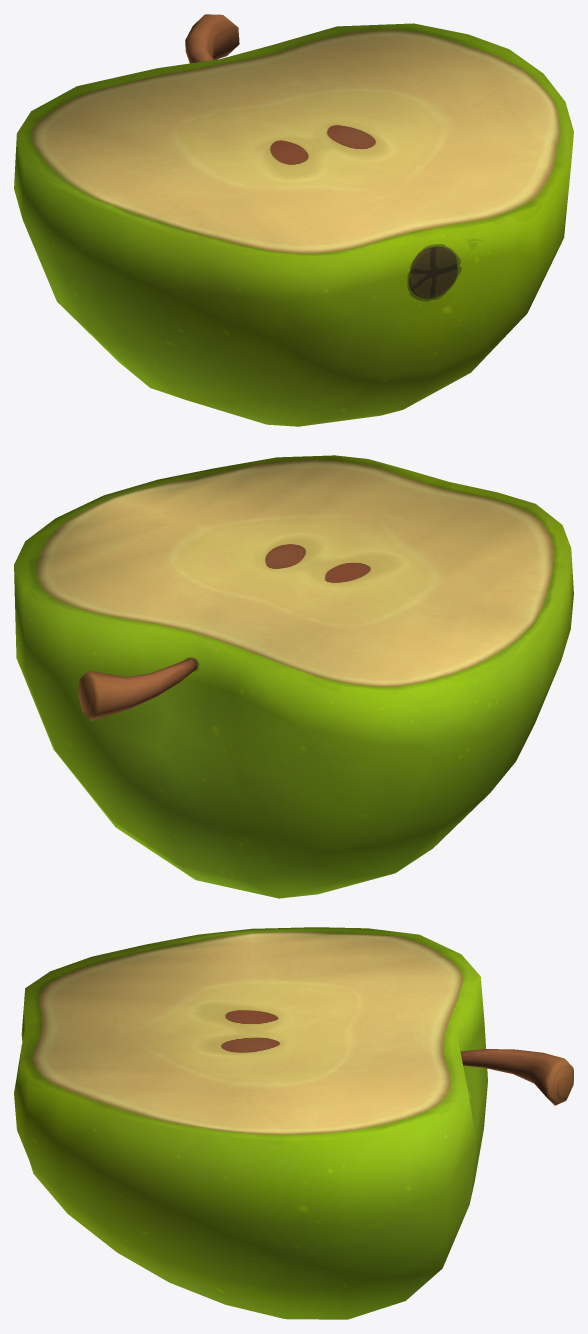
Rendered from apple_half_green_pbr.glb.
The picture shows the model from 3 angles, top to bottom: view 1: azimuth 30°, elevation 25°; view 2: azimuth 150°, elevation 25°; view 3: azimuth 270°, elevation 25°; orthographic projection. The views are drawn at different scales.
Visible parts, largest first — view 1: APPLE_green_Half.002; view 2: APPLE_green_Half.002; view 3: APPLE_green_Half.002.
Part boxes in pixels (x1,y1,x2,y2): APPLE_green_Half.002: (14, 14, 573, 426); APPLE_green_Half.002: (14, 455, 573, 898); APPLE_green_Half.002: (14, 927, 573, 1319).
Bounding box in the file's own units: 0.0816 × 0.0459 × 0.0877.
Materials: 1 (1 with a texture image).
